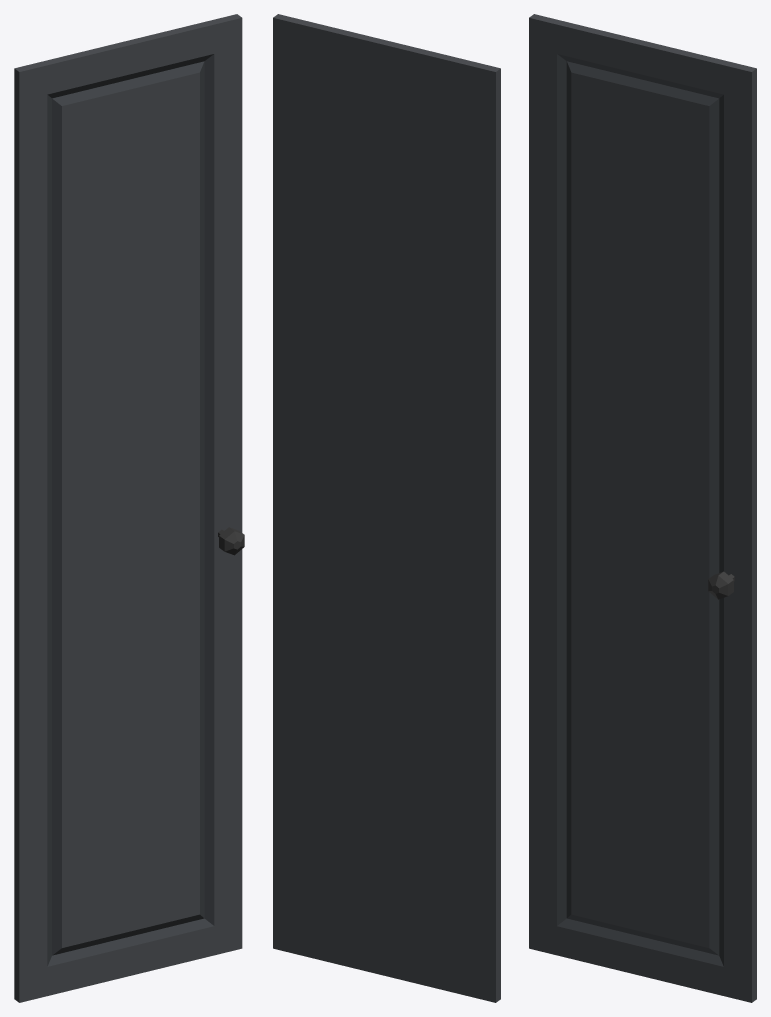
File: Wardrobe7_C2_07.fbx
3 views of the same model, side by side, from view 1: azimuth 30°, elevation 25°; view 2: azimuth 150°, elevation 25°; view 3: azimuth 330°, elevation 25° (orthographic).
Visible parts, largest first — view 1: Wardrobe7_C2_07; view 2: Wardrobe7_C2_07; view 3: Wardrobe7_C2_07.
Boxes of the visible parts, x1,y1,x2,y2 form: Wardrobe7_C2_07: (14, 14, 244, 1002); Wardrobe7_C2_07: (273, 14, 500, 1002); Wardrobe7_C2_07: (529, 14, 756, 1002).
Bounding box in the file's own units: 50 × 200 × 8.1.
